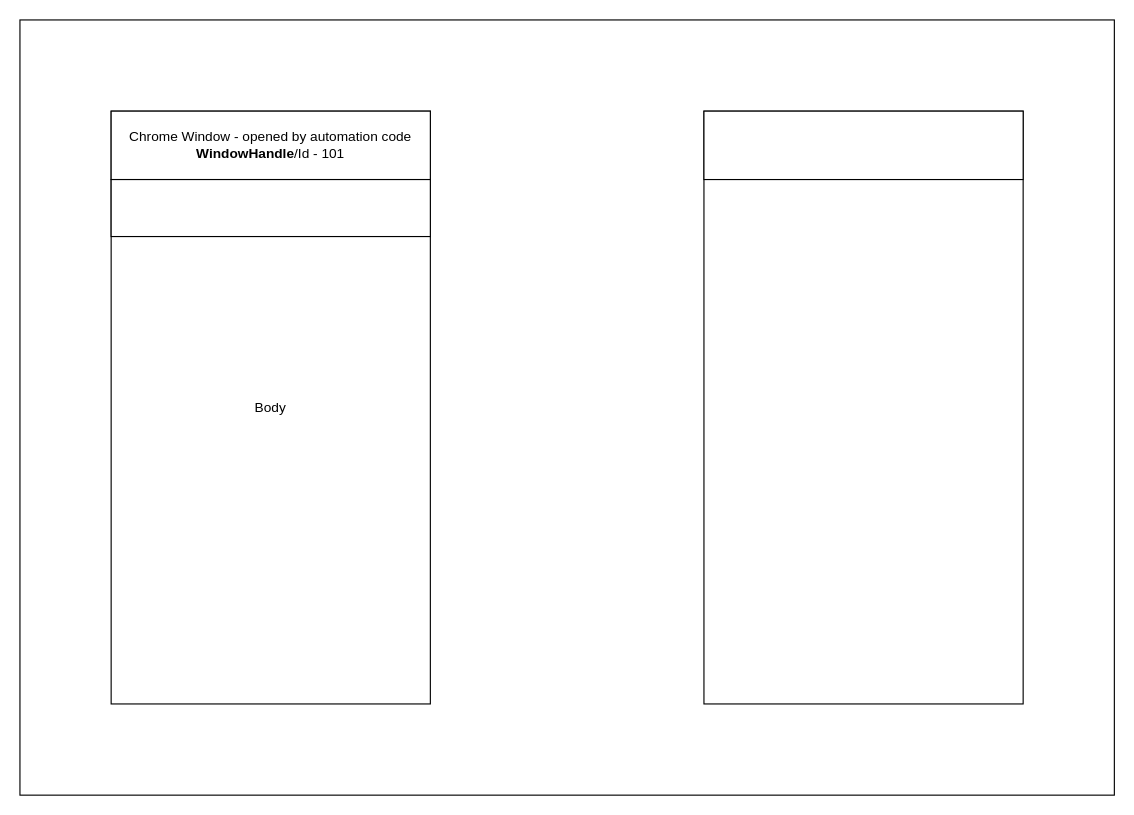
Image size: 1134x815. Some labels were removed from this diagram. Here are the shapes that lost their labels. From the top down, the box of each, then its label:
(703, 110, 1023, 180): Chrome Window - opened by user manually Id - 102
(110, 178, 430, 237): https://www.amazon.com/ - Head url, Title, back, forward, refresh, close
